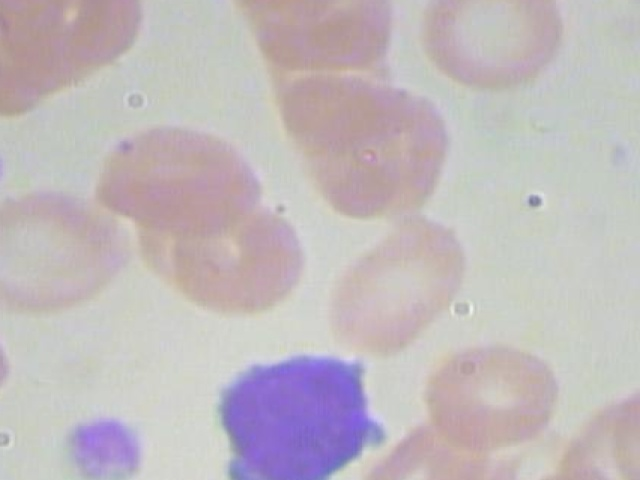Platelets: (63, 403, 148, 480), (0, 142, 7, 198)
RBC: (317, 216, 475, 363), (90, 119, 272, 234), (156, 198, 308, 316), (0, 191, 137, 320), (422, 337, 565, 455), (412, 0, 577, 91), (0, 0, 154, 77), (610, 369, 640, 480)
WBC: (183, 336, 393, 480)
